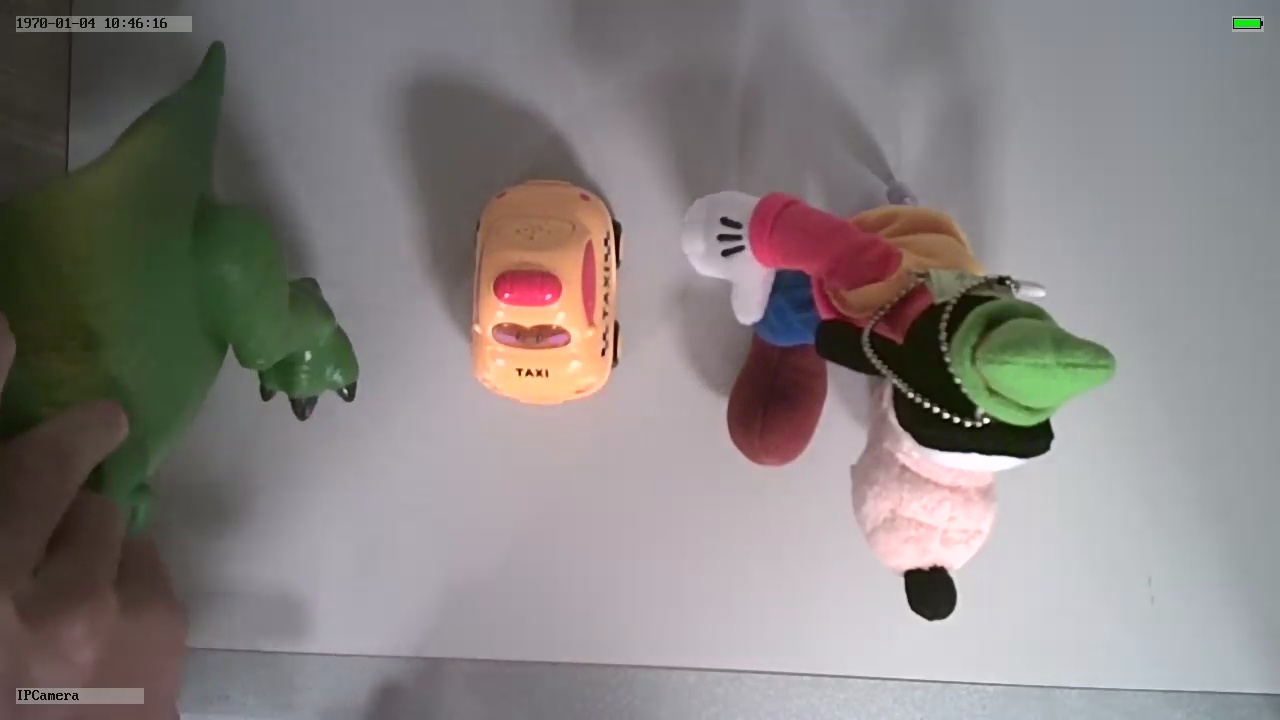car: (462, 164, 633, 411)
goofy: (676, 185, 1119, 627)
